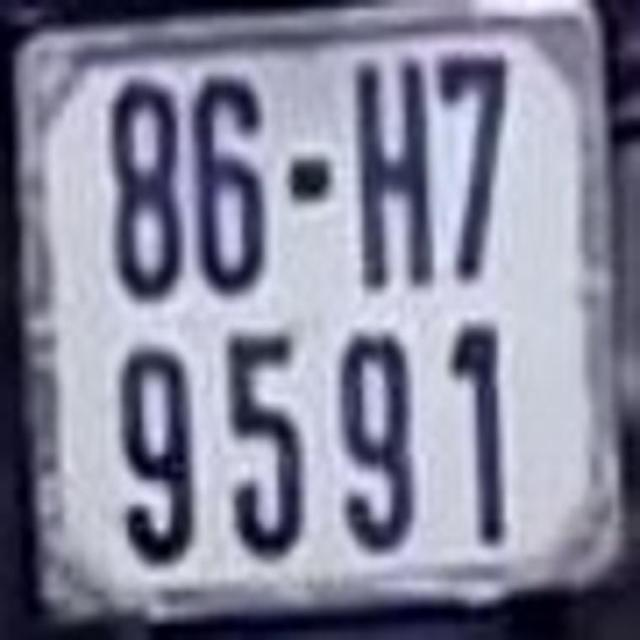1: (446, 318, 522, 548)
5: (224, 328, 308, 558)
6: (191, 71, 268, 294)
7: (438, 48, 512, 285)
8: (108, 73, 184, 303)
9: (114, 339, 199, 568), (334, 324, 418, 555)
H: (349, 51, 438, 292)
